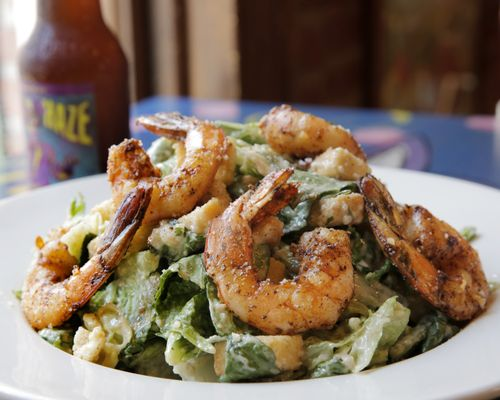burger: (16, 0, 132, 189)
curry: (5, 100, 499, 397)
